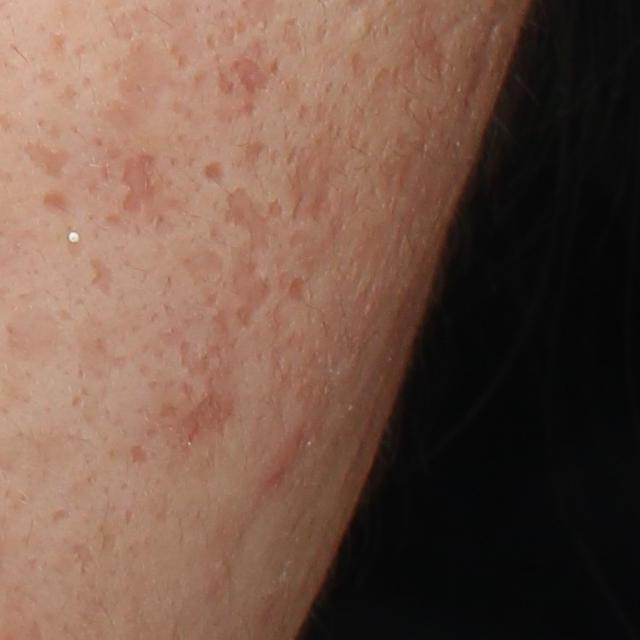atrophic_scar: (161, 306, 243, 448), (222, 186, 285, 328), (94, 35, 178, 127), (292, 126, 353, 225), (398, 3, 455, 80), (285, 229, 337, 304), (117, 149, 164, 216), (18, 139, 70, 180), (180, 245, 223, 285), (230, 52, 269, 94), (238, 139, 273, 175), (283, 13, 310, 56), (89, 260, 116, 298), (71, 541, 98, 576), (45, 31, 76, 58), (204, 161, 227, 189), (44, 189, 68, 214), (349, 49, 368, 78), (130, 443, 151, 465), (158, 402, 181, 420), (52, 507, 73, 525), (201, 289, 219, 307), (123, 508, 134, 527)
other: (67, 229, 82, 246)
